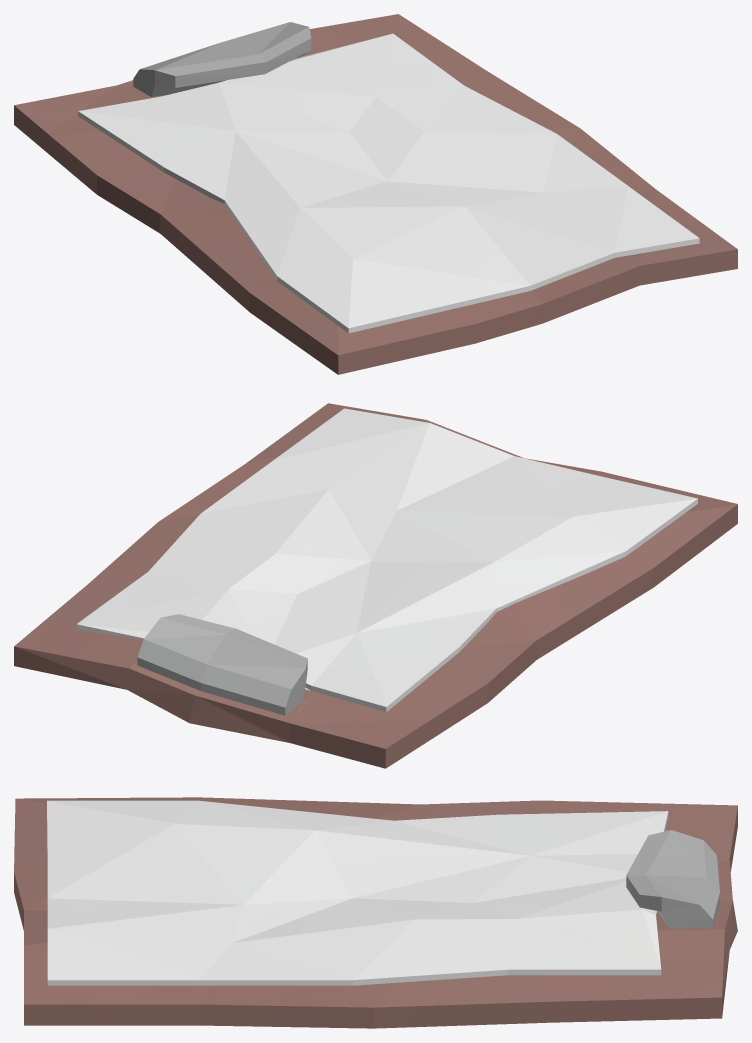
File: clipboard.obj
The picture shows the model from 3 angles, top to bottom: view 1: azimuth 30°, elevation 25°; view 2: azimuth 150°, elevation 25°; view 3: azimuth 270°, elevation 25°; orthographic projection. The views are drawn at different scales.
Parts seen in each view (by area): view 1: paper_Material, clipboard_Material; view 2: paper_Material, clipboard_Material; view 3: paper_Material, clipboard_Material.
Boxes of the visible parts, x1,y1,x2,y2 form: paper_Material: [78, 33, 699, 333]; clipboard_Material: [14, 14, 737, 374]; paper_Material: [76, 408, 697, 712]; clipboard_Material: [14, 403, 737, 768]; paper_Material: [47, 800, 668, 985]; clipboard_Material: [14, 797, 737, 1028].
Bounding box in the file's own units: 0.1803 × 0.0264 × 0.2563.
